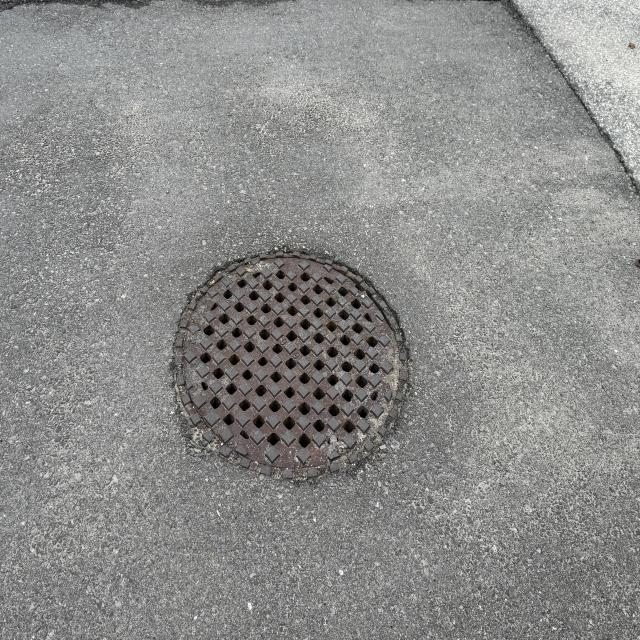Manhole: (171, 250, 407, 472)
